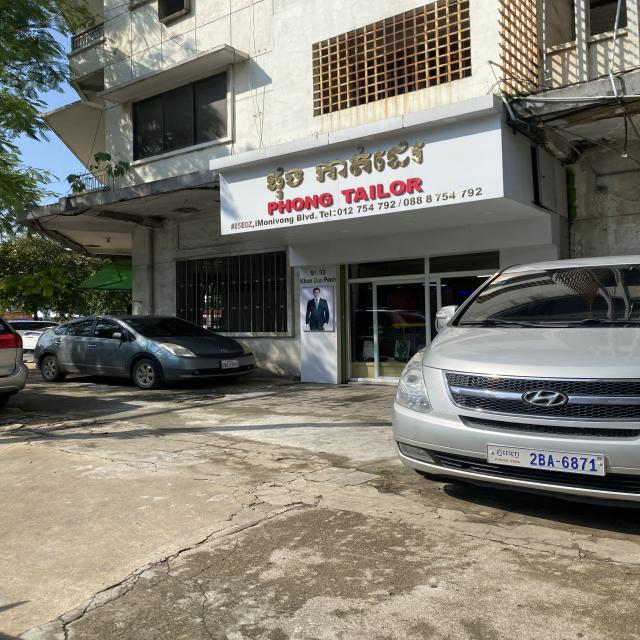1: (263, 132, 432, 203)
273: (336, 186, 485, 217)
631: (528, 451, 540, 466), (222, 363, 226, 368)
814: (229, 362, 239, 367)
815: (560, 453, 599, 474)
850: (233, 221, 242, 230)
881: (316, 268, 330, 275)
Yolov11_80vkh: (495, 447, 521, 460), (226, 360, 233, 363)
